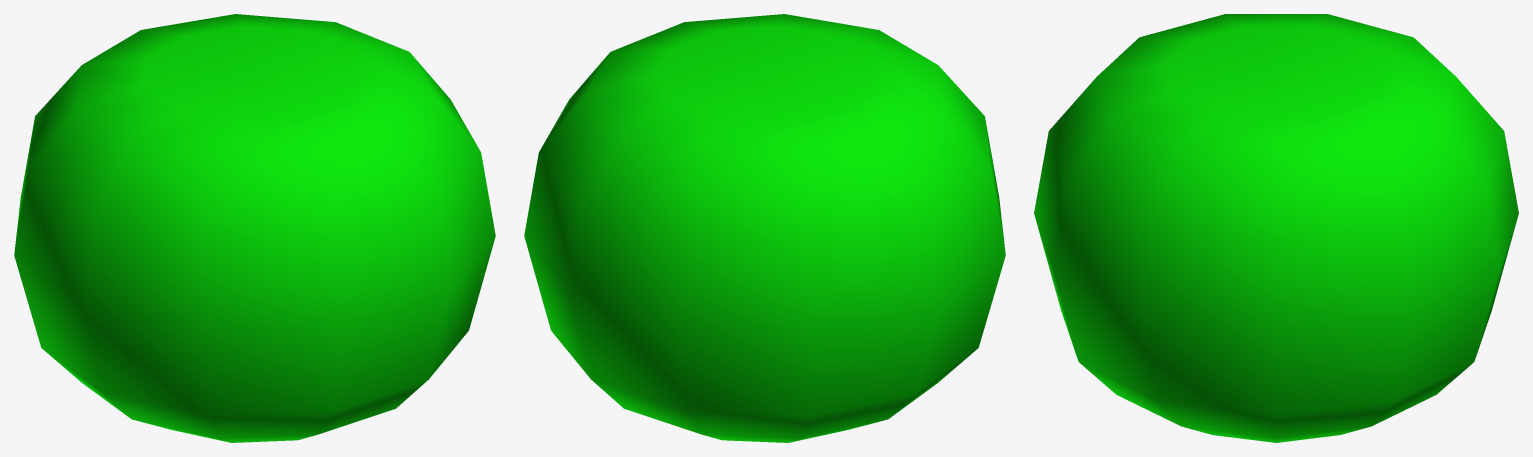
The model's file is Fruit02.fbx.
3 renders of one model, left to right at view 1: azimuth 30°, elevation 25°; view 2: azimuth 150°, elevation 25°; view 3: azimuth 270°, elevation 25°, orthographic.
Visible parts, largest first — view 1: pCylinder13; view 2: pCylinder13; view 3: pCylinder13.
Boxes of the visible parts, x1=… form: pCylinder13: x1=14, y1=14, x2=495, y2=442; pCylinder13: x1=524, y1=14, x2=1005, y2=442; pCylinder13: x1=1034, y1=14, x2=1518, y2=442.
Size of the model in its own units: 0.168 by 0.124 by 0.1697.
